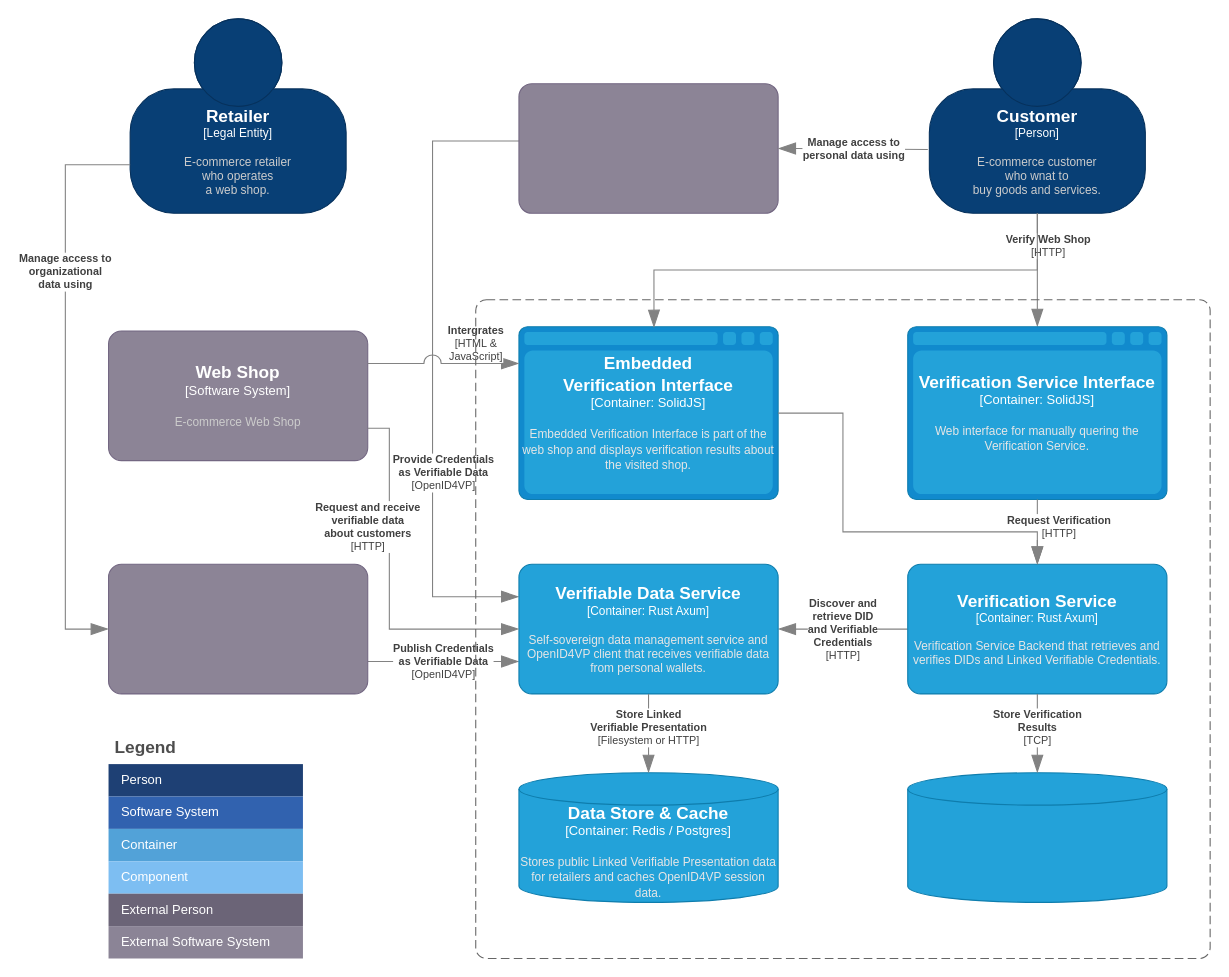
The diagram is 1229 pixels wide and 977 high, and some of its shapes have lost their labels. Here are the shapes that lost their labels. From the top down, the box of each, then its label:
(518, 83, 778, 213): Personal Wallet [Software System] Personal digital wallet
(107, 563, 368, 694): Organizational Wallet [Software System] Organizational digital wallet
(475, 299, 1210, 959): CHECK [Software System]
(907, 772, 1167, 902): Cache [Container: Redis / Postgres] Cache for verification results.
